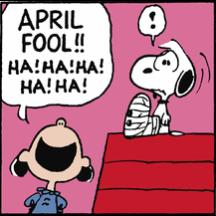snoopy: (121, 37, 197, 139)
